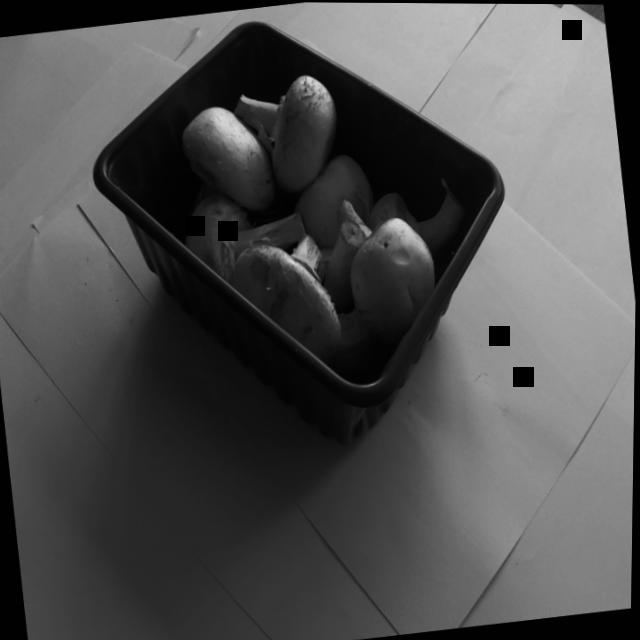Buttonmushroom: (56, 0, 546, 474)
